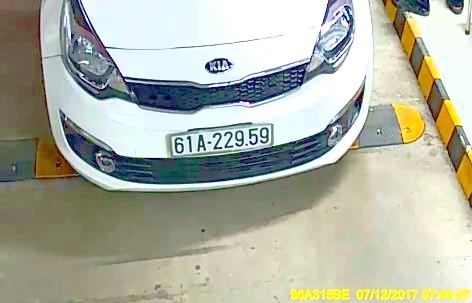plate: (166, 126, 274, 157)
